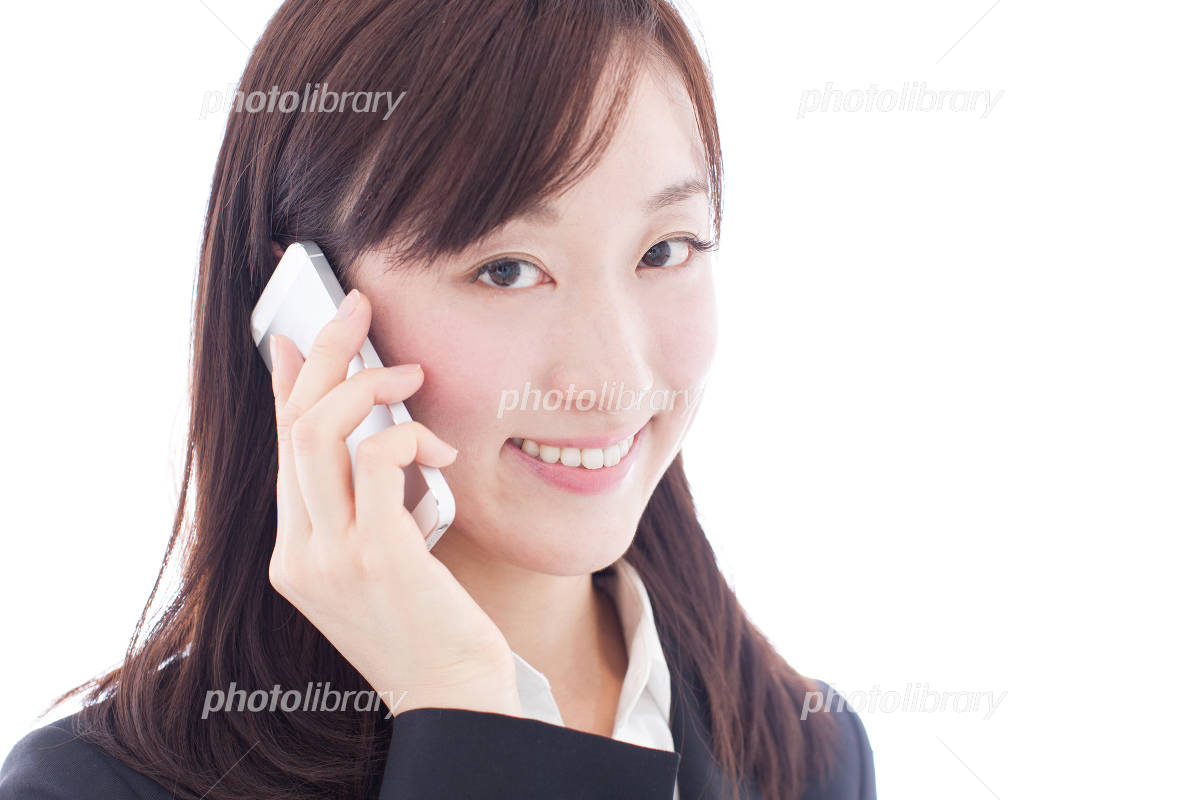phone: (253, 277, 459, 600)
talk: (251, 153, 717, 689)
